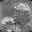people: (1, 16, 15, 25)
